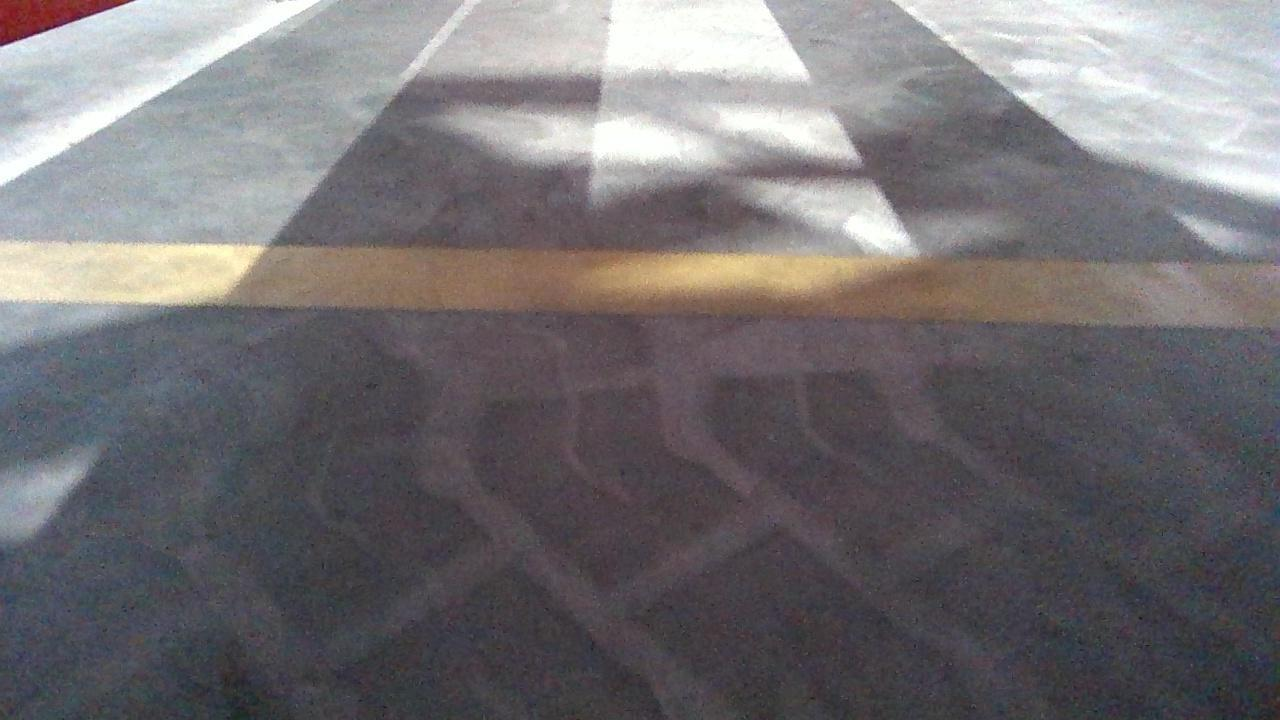yellow_line: (1, 243, 1280, 331)
